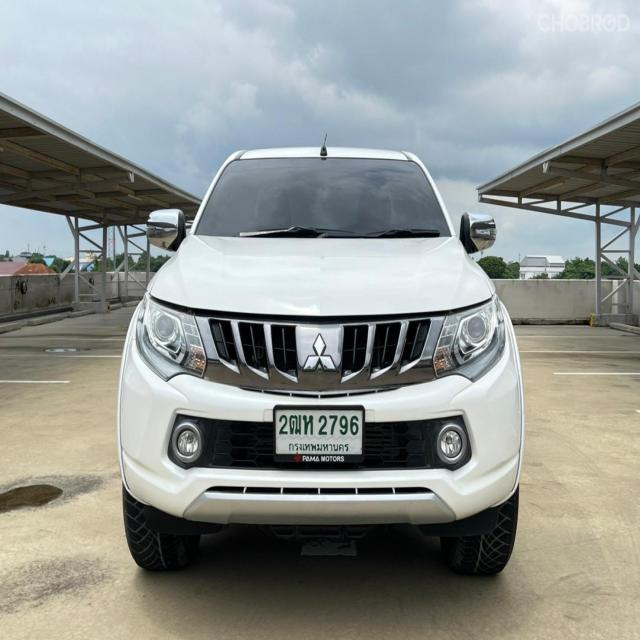license_plate: (271, 401, 366, 468)
